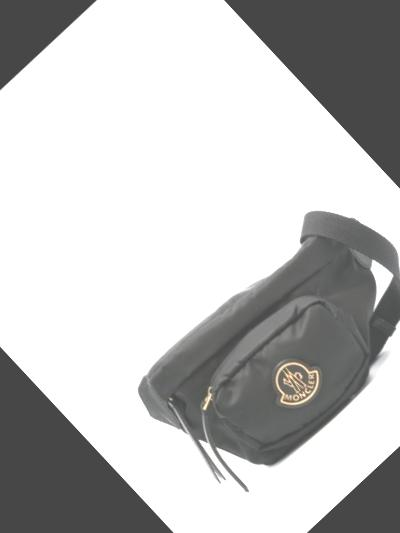MONCLER: (256, 342, 333, 420)
